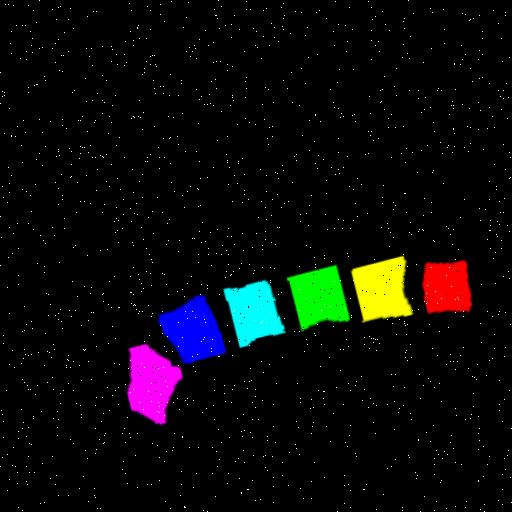L1: (419, 266, 468, 318)
L2: (348, 260, 409, 326)
L3: (285, 268, 346, 334)
L4: (222, 285, 280, 348)
L5: (155, 298, 222, 365)
S1: (123, 346, 178, 425)
